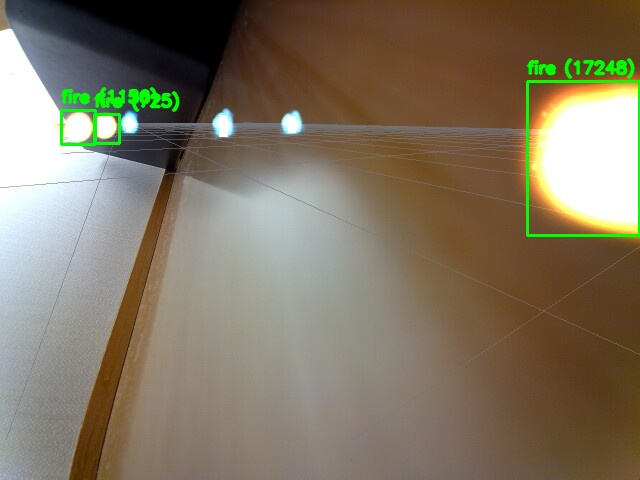fire: (527, 81, 639, 235), (61, 110, 95, 144), (94, 114, 119, 143)
